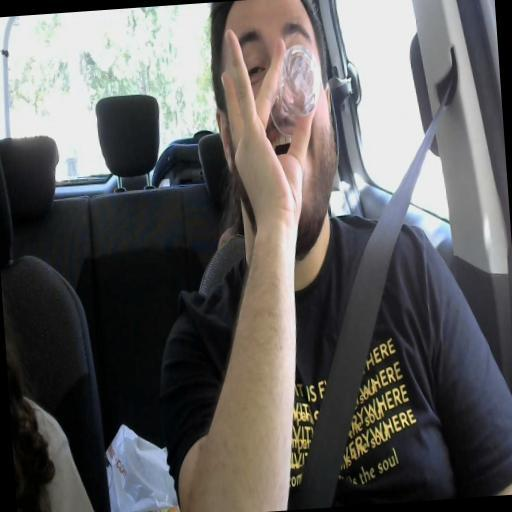Drinking: (214, 3, 339, 255)
